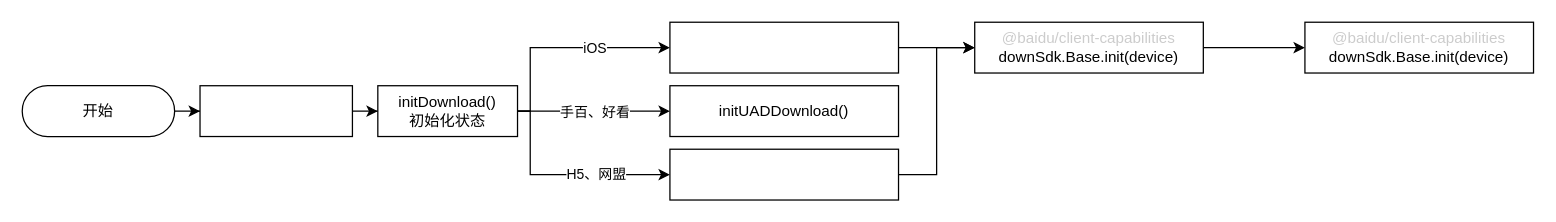
Some shapes in this 1556 by 222 pixel diagram are drawn without their labels. Each missing label, with the centre of its shape:
"constructor() 初始化参数" belongs at point (275, 110).
"initDownSdkDownload('Android')" belongs at point (784, 174).
"initDownSdkDownload('iOS')" belongs at point (784, 47).
